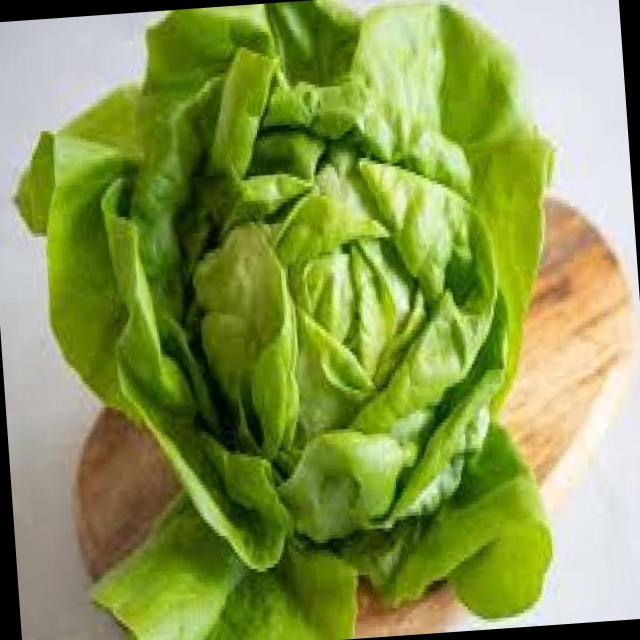Lettuce-Ready-to-Harvest: (16, 0, 551, 640)
